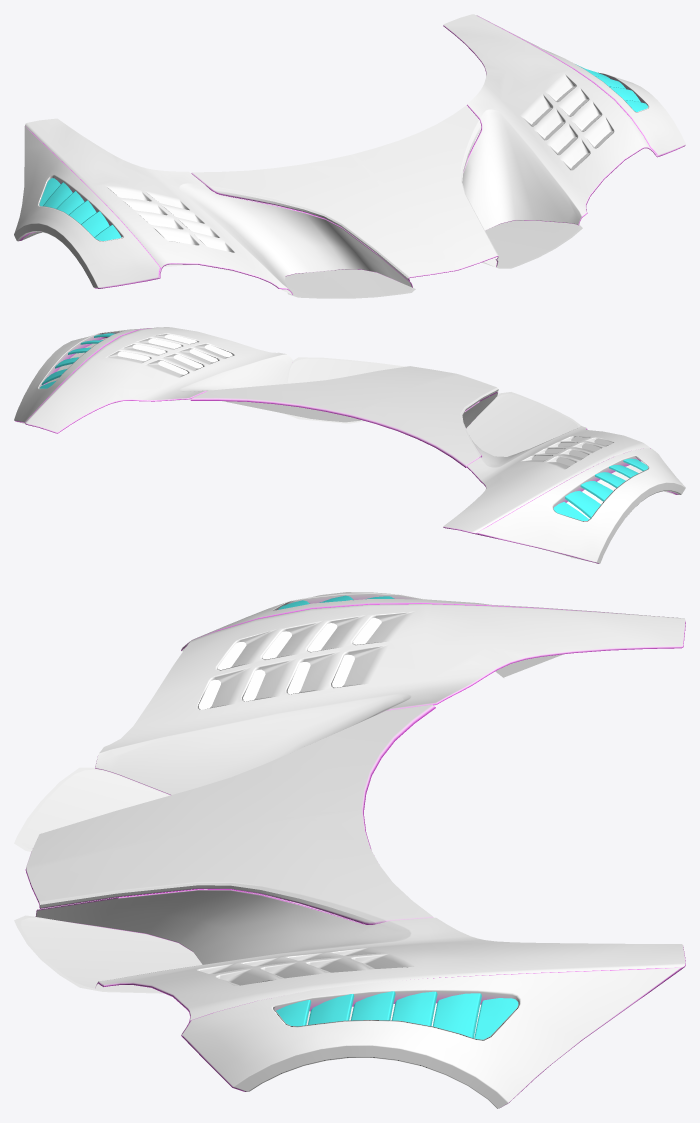
Rendered from Car_Ford_GT_2017_Hood_SetH.fbx.
The picture shows the model from 3 angles, top to bottom: view 1: azimuth 30°, elevation 25°; view 2: azimuth 150°, elevation 25°; view 3: azimuth 270°, elevation 25°; orthographic projection. The views are drawn at different scales.
Parts seen in each view (by area): view 1: Hood 6; view 2: Hood 6; view 3: Hood 6.
Part boxes in pixels (x1,y1,x2,y2): Hood 6: (14,14,685,298); Hood 6: (14,327,685,563); Hood 6: (14,592,685,1108).
Bounding box in the file's own units: 2.14 × 0.2591 × 1.33.
